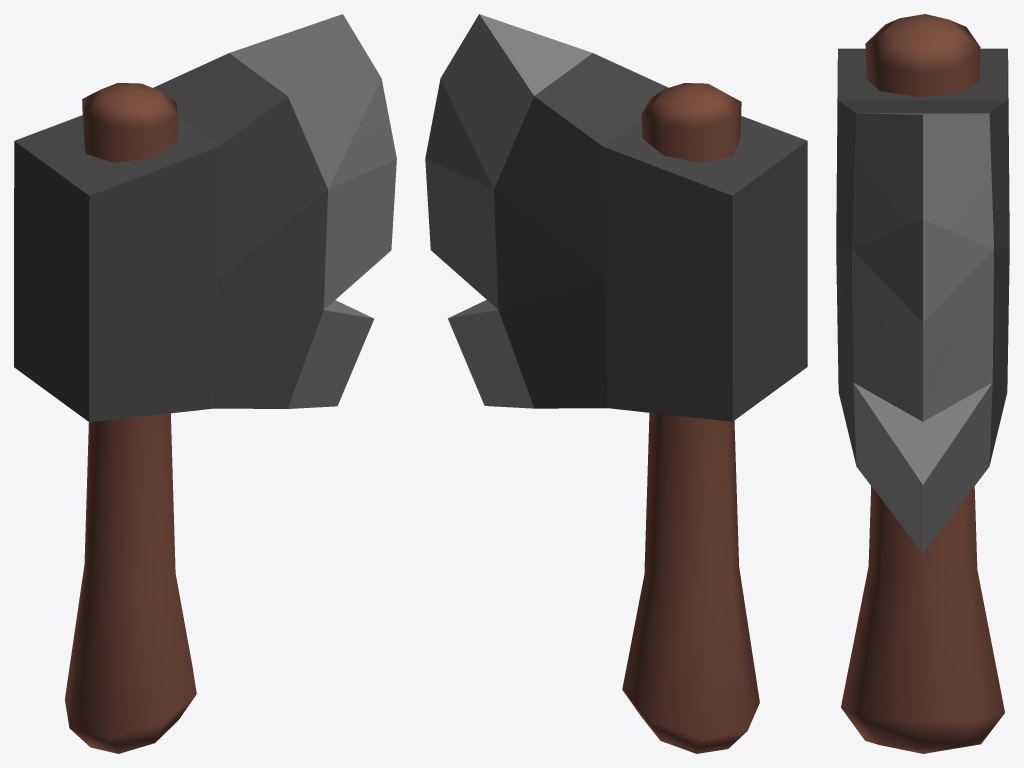
Rendered from Axe_LHand_1.fbx.
3 views of the same model, side by side, from view 1: azimuth 30°, elevation 25°; view 2: azimuth 150°, elevation 25°; view 3: azimuth 270°, elevation 25° (orthographic). The views are drawn at different scales.
Parts seen in each view (by area): view 1: Axe_LHand_1; view 2: Axe_LHand_1; view 3: Axe_LHand_1.
Part boxes in pixels (box(x1,y1,x2,y2)): Axe_LHand_1: box(14, 14, 396, 753); Axe_LHand_1: box(425, 14, 807, 753); Axe_LHand_1: box(836, 14, 1009, 753).
Size of the model in its own units: 26.24 by 48.91 by 10.11.
